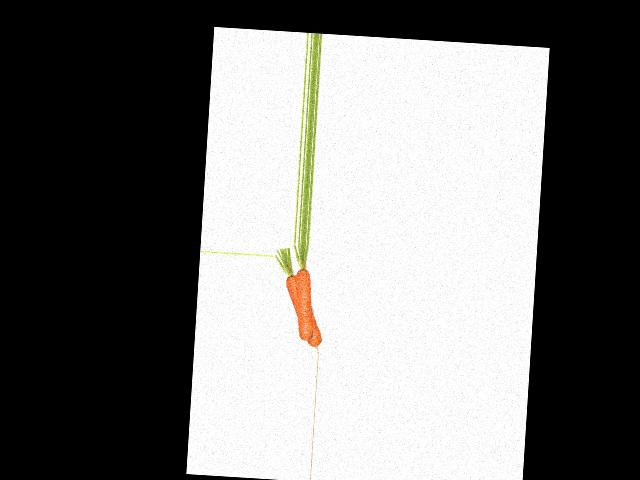carrot: (281, 268, 324, 352)
